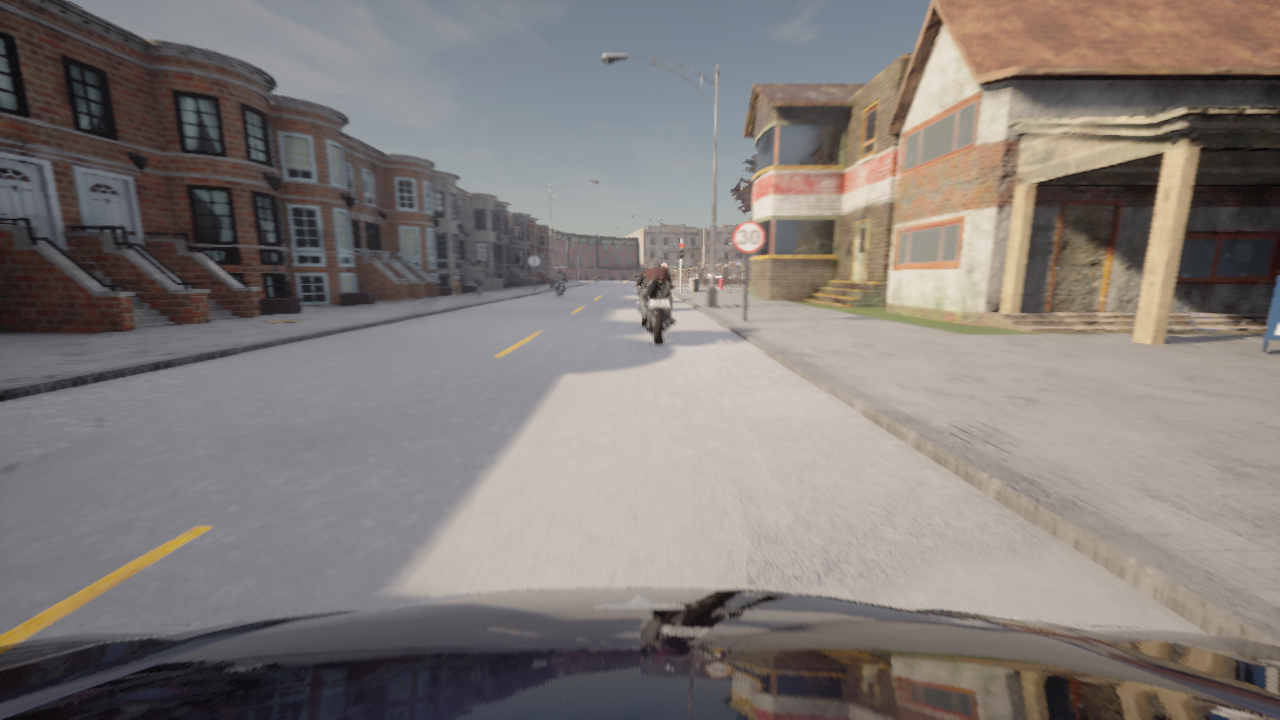cyclist: (0, 588, 1279, 719), (632, 275, 675, 345), (550, 274, 566, 297), (634, 273, 636, 274)
pedestrian: (472, 260, 486, 297), (451, 272, 460, 296)
